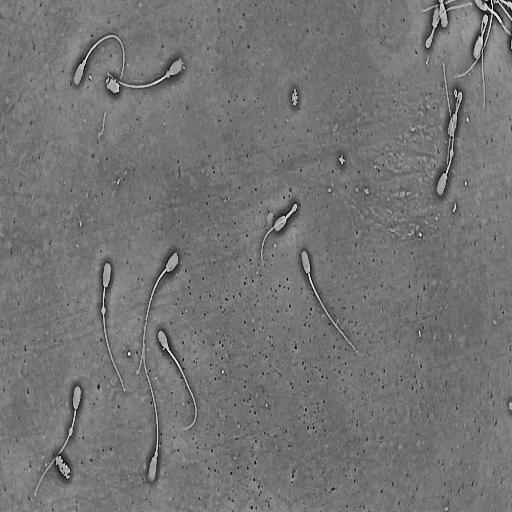dirt-particles: (54, 453, 72, 483), (105, 77, 122, 95), (291, 87, 299, 109), (338, 155, 346, 165), (453, 88, 458, 99)
distal-droplet: (67, 424, 74, 438), (101, 307, 106, 315), (450, 148, 454, 158)
folded-tail: (261, 204, 297, 264), (425, 4, 471, 47), (447, 91, 462, 170), (481, 38, 485, 106), (481, 15, 488, 38), (456, 96, 460, 112), (427, 35, 432, 43)
loose-tail: (455, 0, 494, 80)
normal: (300, 247, 360, 355), (134, 248, 180, 377), (33, 383, 82, 499), (157, 327, 199, 433), (100, 261, 127, 395), (72, 31, 126, 88), (105, 56, 185, 91), (260, 200, 300, 268), (436, 62, 455, 199), (143, 341, 160, 485), (424, 2, 472, 49), (472, 11, 489, 109), (445, 88, 464, 174)
proximal-droplet: (166, 70, 171, 78), (154, 449, 158, 458), (82, 60, 86, 66)
